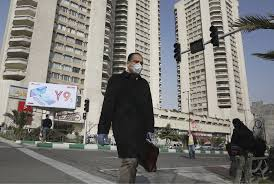mask: (128, 54, 142, 73)
